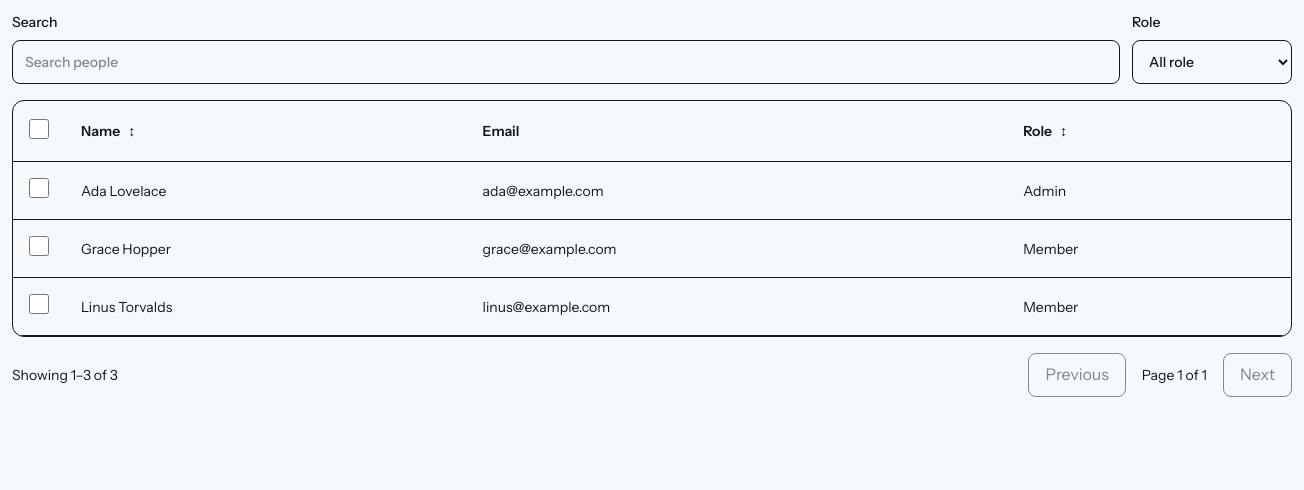
ResponsiveDataExplorer › shows bulk actions only after selection
Expected: the button "Archive" is not shown
Click the checkbox named "Select row 1": (39,188) [29,178,49,198]
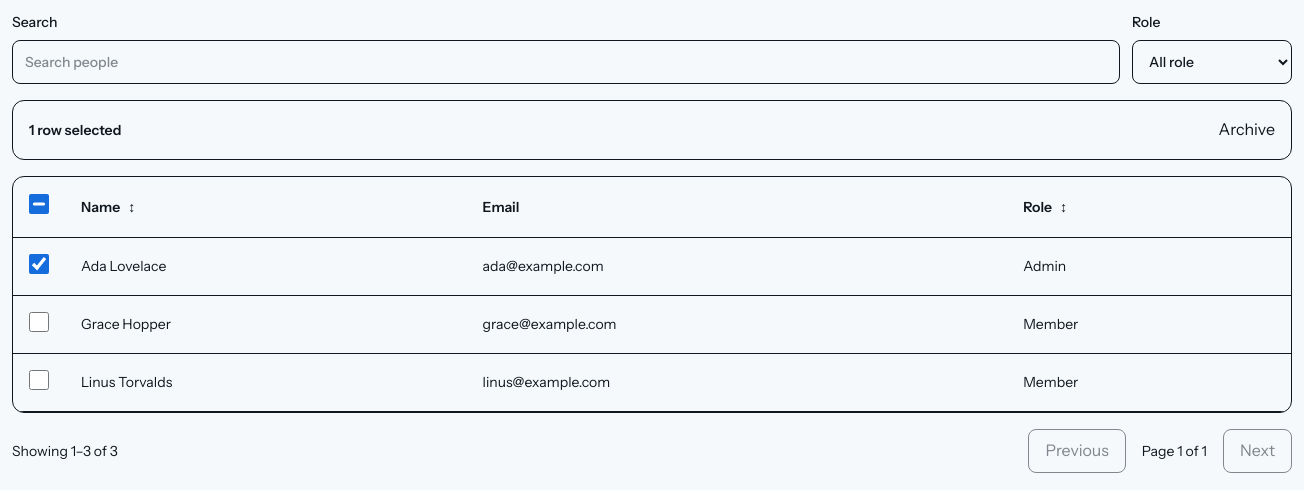
Now the text "1 row selected" is shown, box [29,120,121,140]
Now the button "Archive" is shown, box [1219,117,1275,143]
